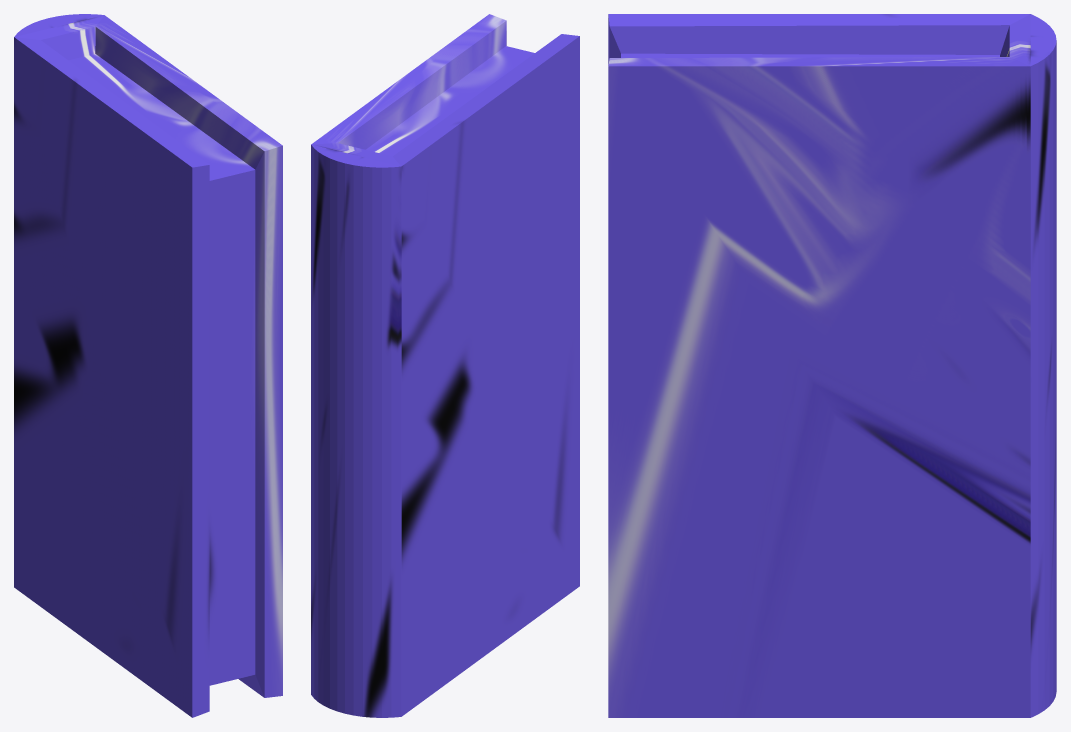
Rendered from book_textured - Copy.glb.
3 renders of one model, left to right at view 1: azimuth 30°, elevation 25°; view 2: azimuth 150°, elevation 25°; view 3: azimuth 270°, elevation 25°, orthographic. The views are drawn at different scales.
Parts seen in each view (by area): view 1: Cube; view 2: Cube; view 3: Cube.
Part boxes in pixels (left/top/right/bottom): Cube: left=14, top=14, right=282, bottom=717; Cube: left=311, top=14, right=579, bottom=717; Cube: left=608, top=14, right=1056, bottom=717.
Size of the model in its own units: 0.5856 by 3.41 by 2.12.
Materials: 1 (1 with a texture image).
